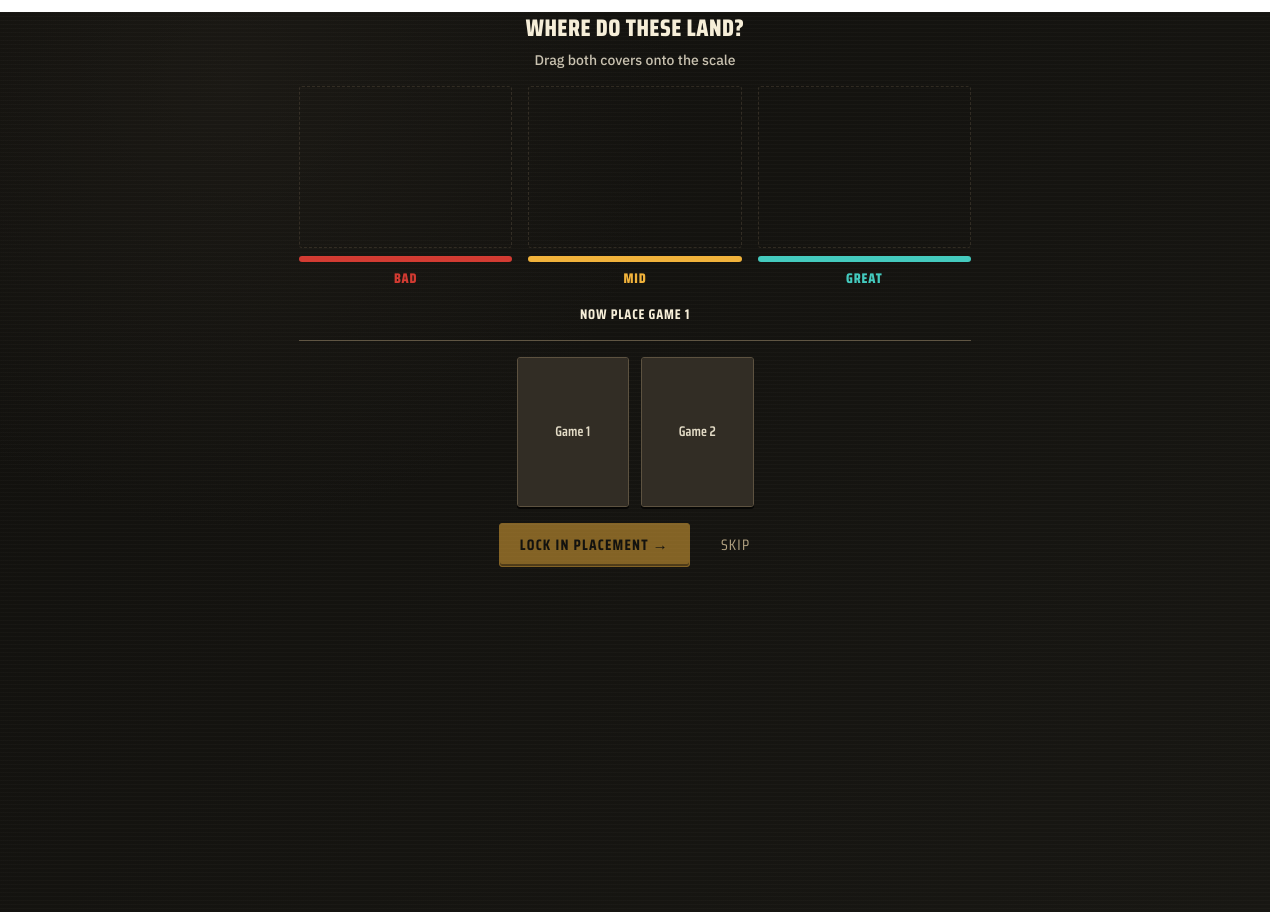
Test: HigherLower (the scale) › lock-in stays disabled until both covers are placed
This screenshot has width=1280, height=912.
Expected: the button "Lock in placement →" is disabled, [499, 523, 690, 567]
Click the button "Game 2".
click(697, 432)  # box [641, 357, 754, 507]
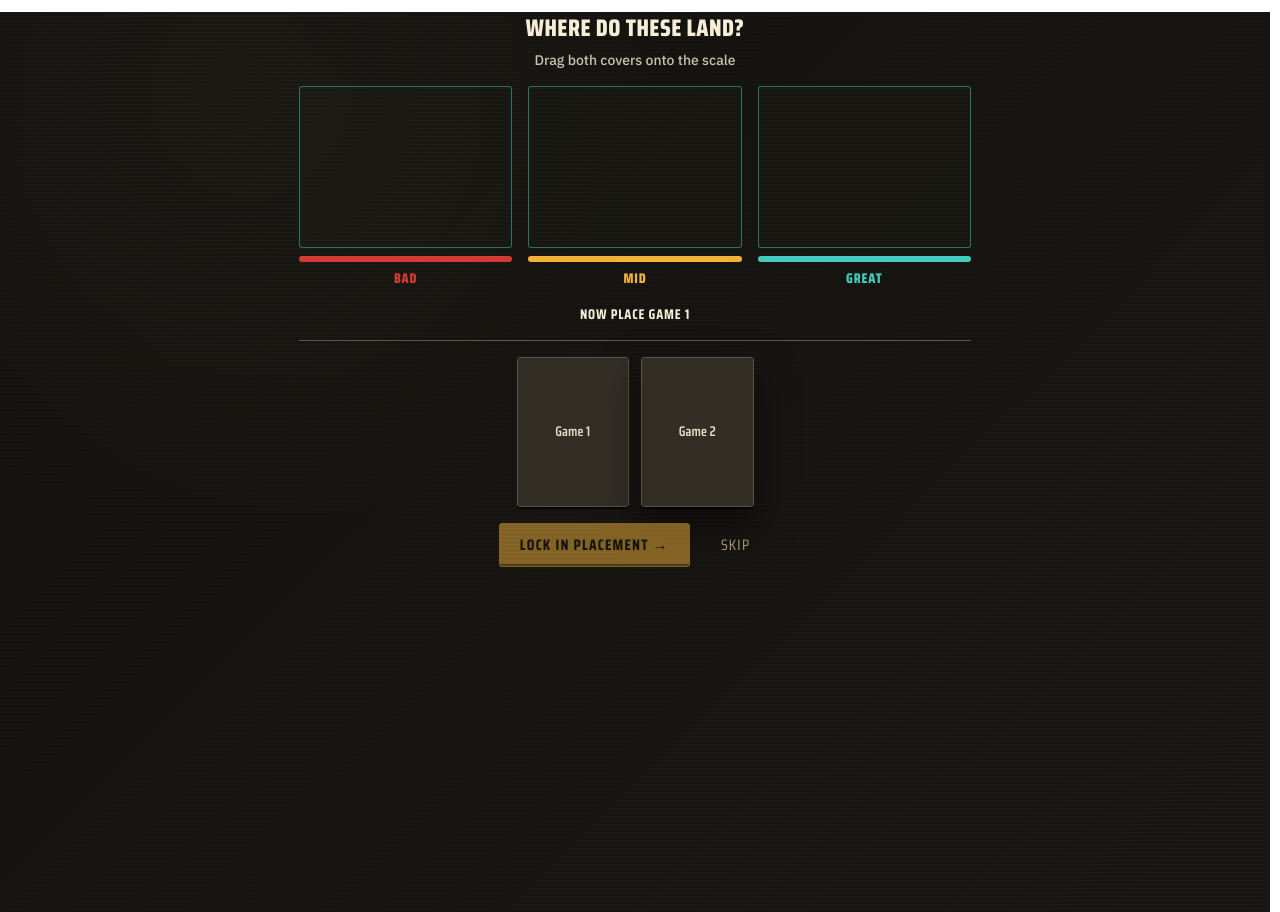
Click the button named "Mid band".
click(635, 167)  # box [528, 86, 742, 248]
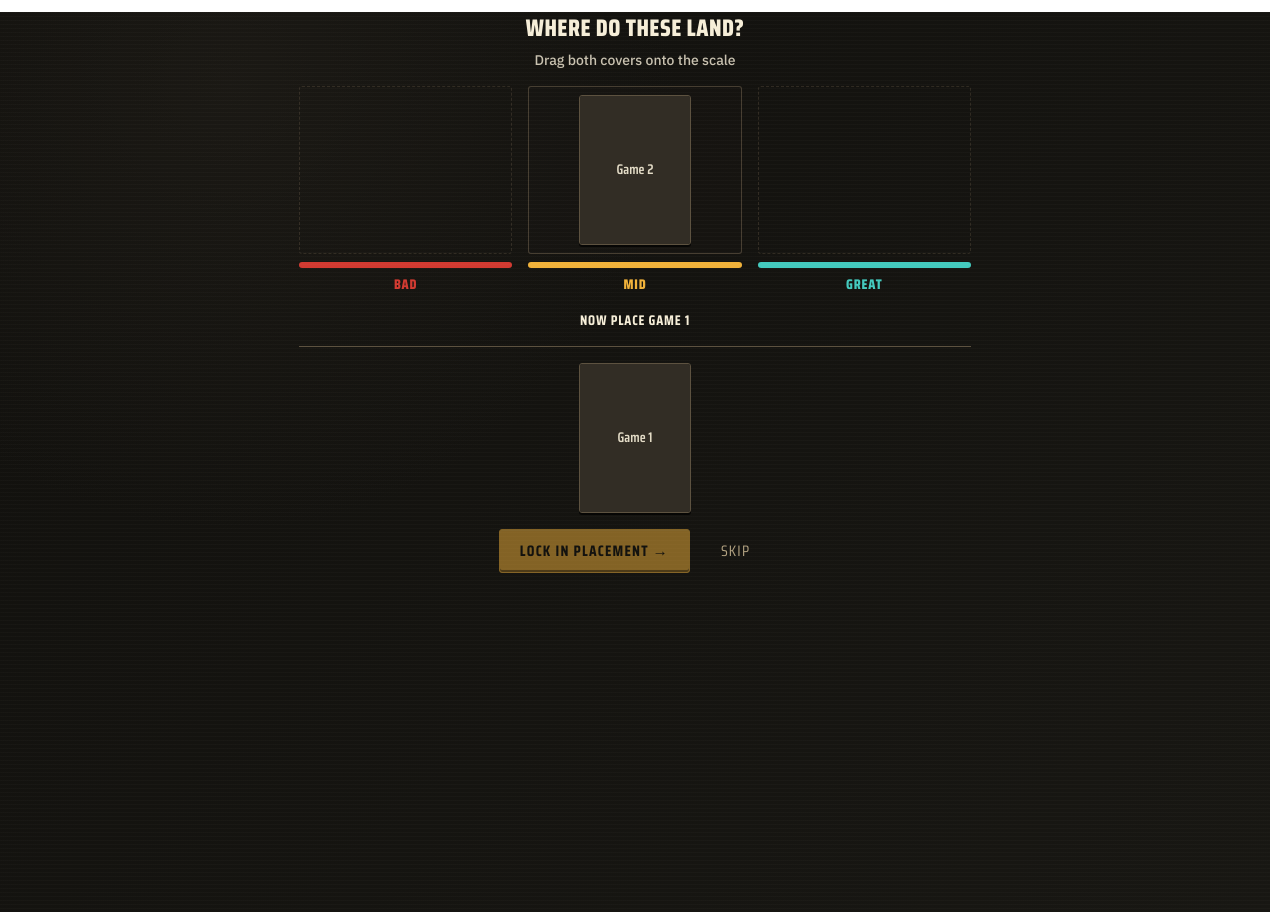
Expected: the button "Lock in placement →" is disabled, [499, 529, 690, 573]
Click the button "Game 1".
click(635, 438)  # box [579, 363, 691, 513]
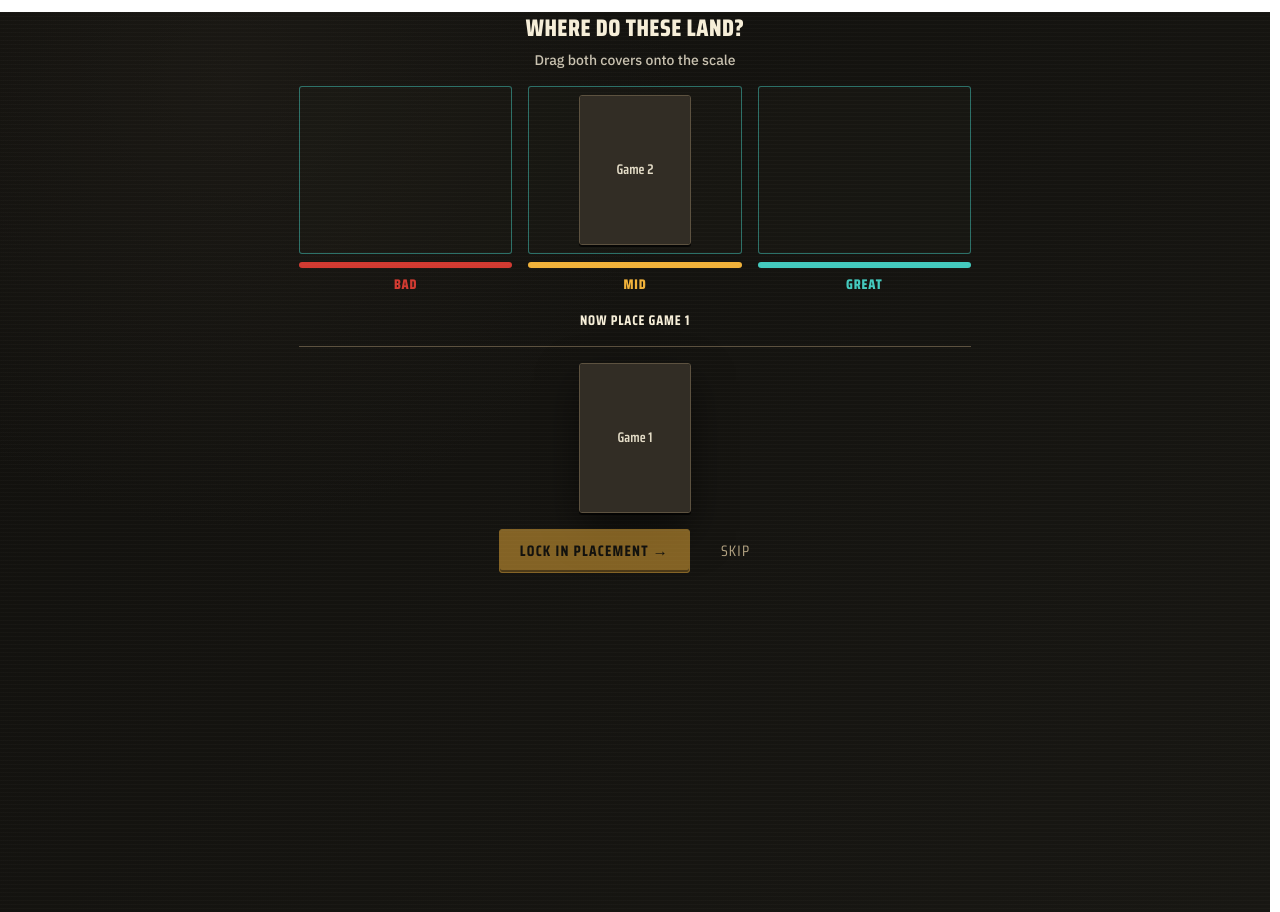
Click the button "Game 2".
click(635, 170)  # box [528, 86, 742, 254]
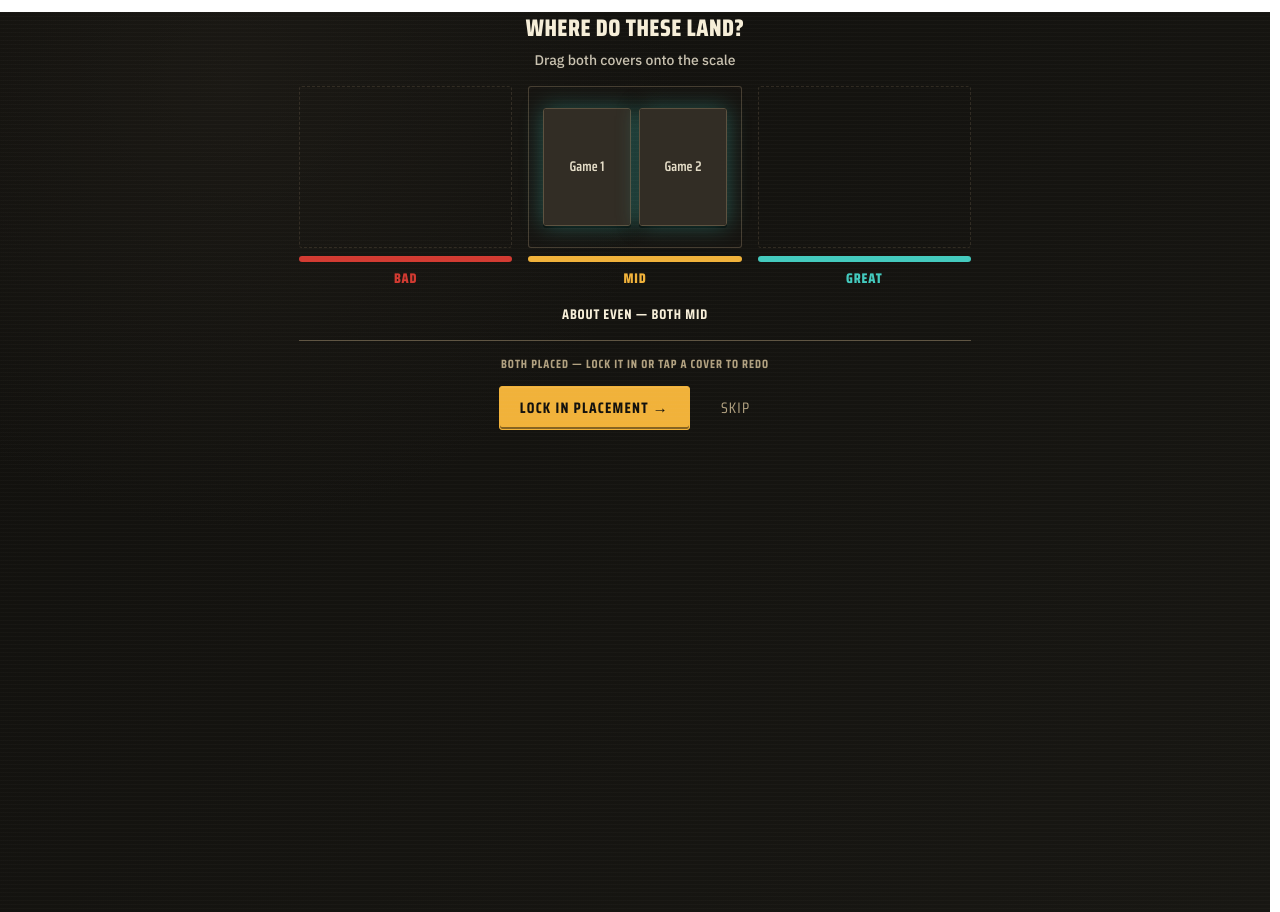
Now the button "Lock in placement →" is enabled, box [499, 386, 690, 430]
